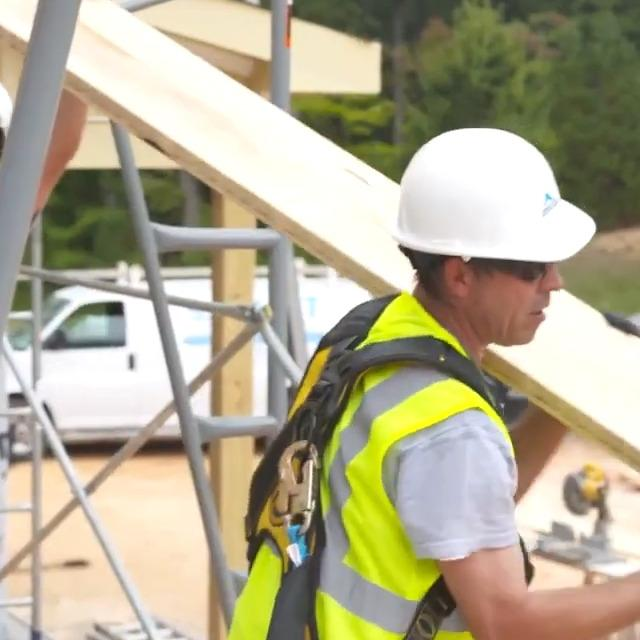Gloves: (604, 311, 640, 337)
Hardhat: (385, 126, 598, 262)
NO-Mask: (458, 289, 550, 343)
Person: (210, 125, 640, 640), (0, 0, 112, 640)
Safety Vest: (200, 291, 512, 640)
vehicle: (0, 268, 366, 465)
